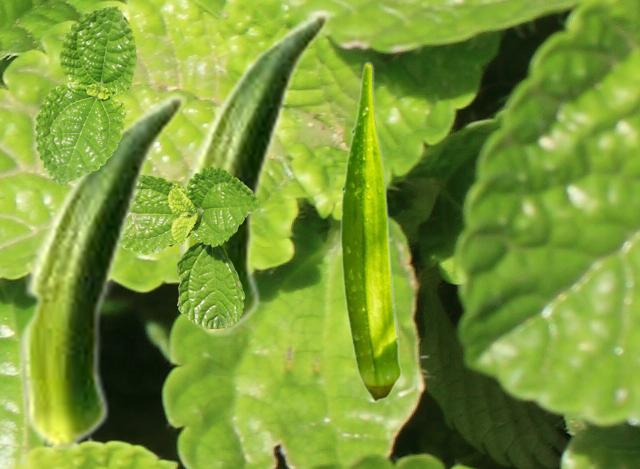okra: (17, 93, 185, 452), (177, 11, 329, 337), (340, 61, 401, 401)
